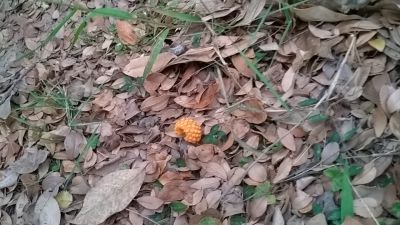eggs: (175, 116, 202, 144)
